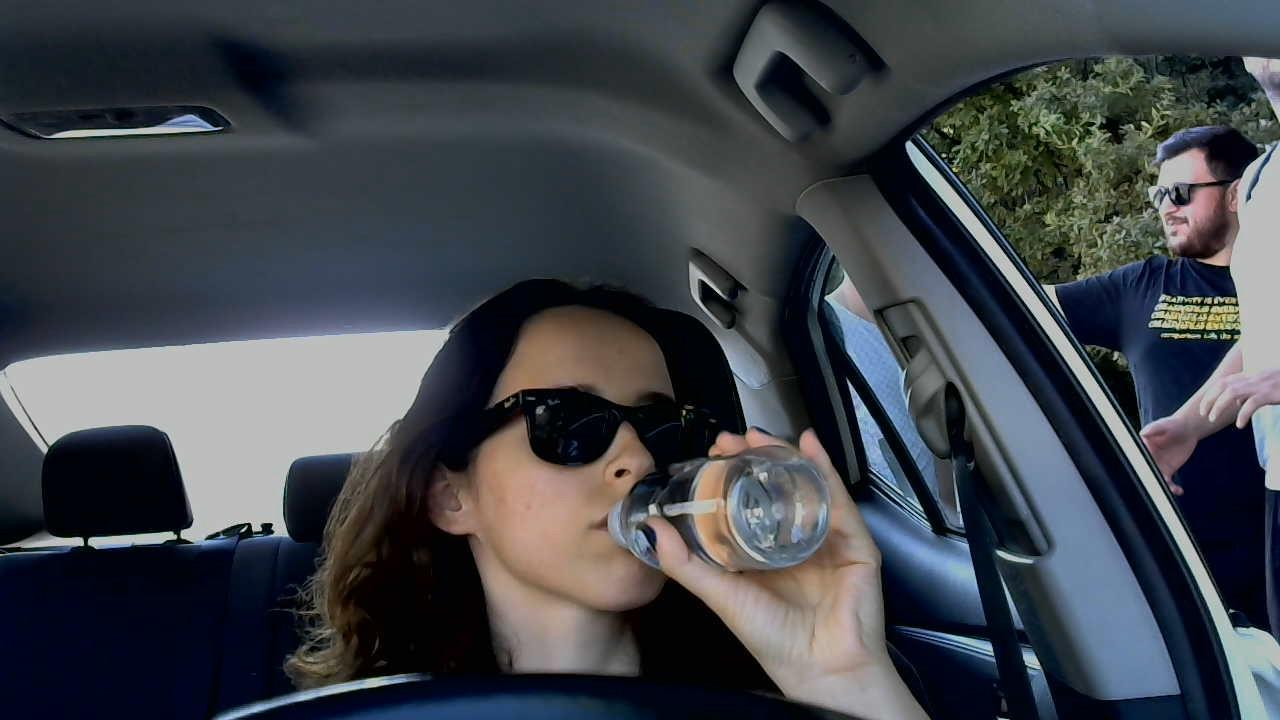Drinking: (608, 455, 845, 581)
